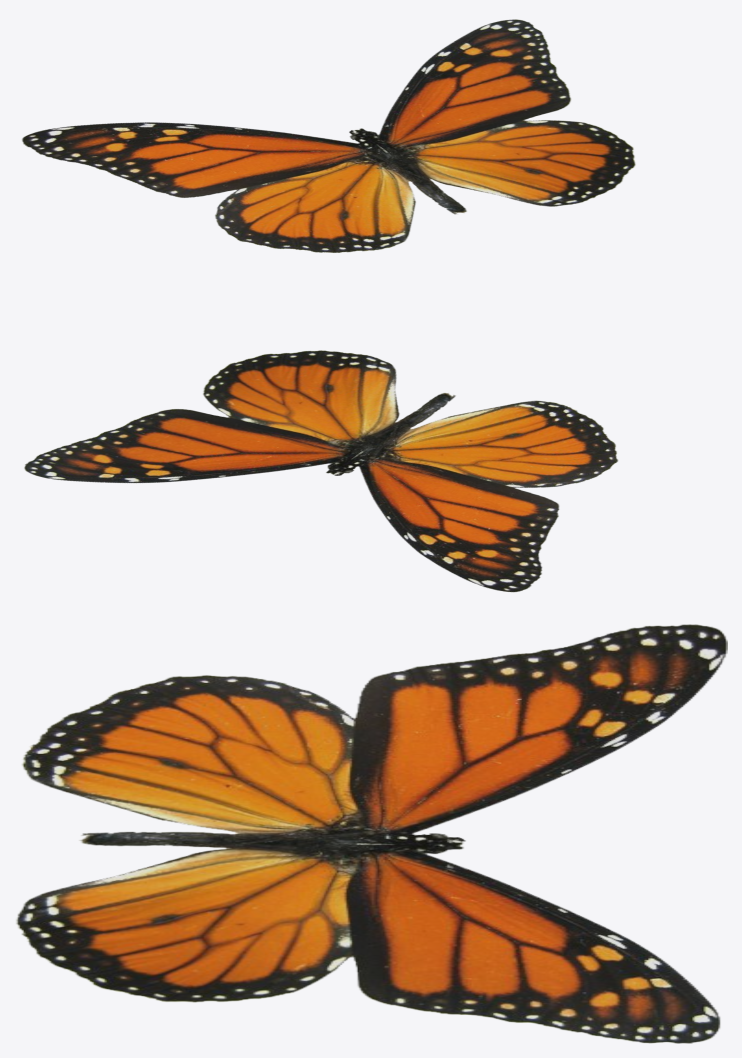
The model's file is butterfly.glb.
3 views of the same model, one above another, from view 1: azimuth 30°, elevation 25°; view 2: azimuth 150°, elevation 25°; view 3: azimuth 270°, elevation 25° (orthographic). The views are drawn at different scales.
Visible parts, largest first — view 1: pngegg, pngegg.001; view 2: pngegg, pngegg.001; view 3: pngegg, pngegg.001.
Boxes of the visible parts, bbox=[...] form: pngegg: bbox=[21, 122, 461, 252]; pngegg.001: bbox=[350, 19, 635, 212]; pngegg: bbox=[337, 394, 618, 592]; pngegg.001: bbox=[24, 350, 448, 483]; pngegg: bbox=[21, 624, 727, 839]; pngegg.001: bbox=[16, 839, 720, 1043].
Size of the model in its own units: 1.39 by 0 by 1.
1 material, 1 textured.
